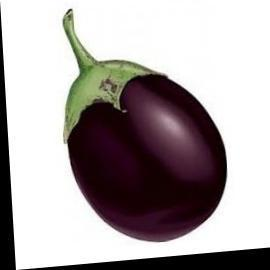eggplant: (48, 0, 228, 251)
